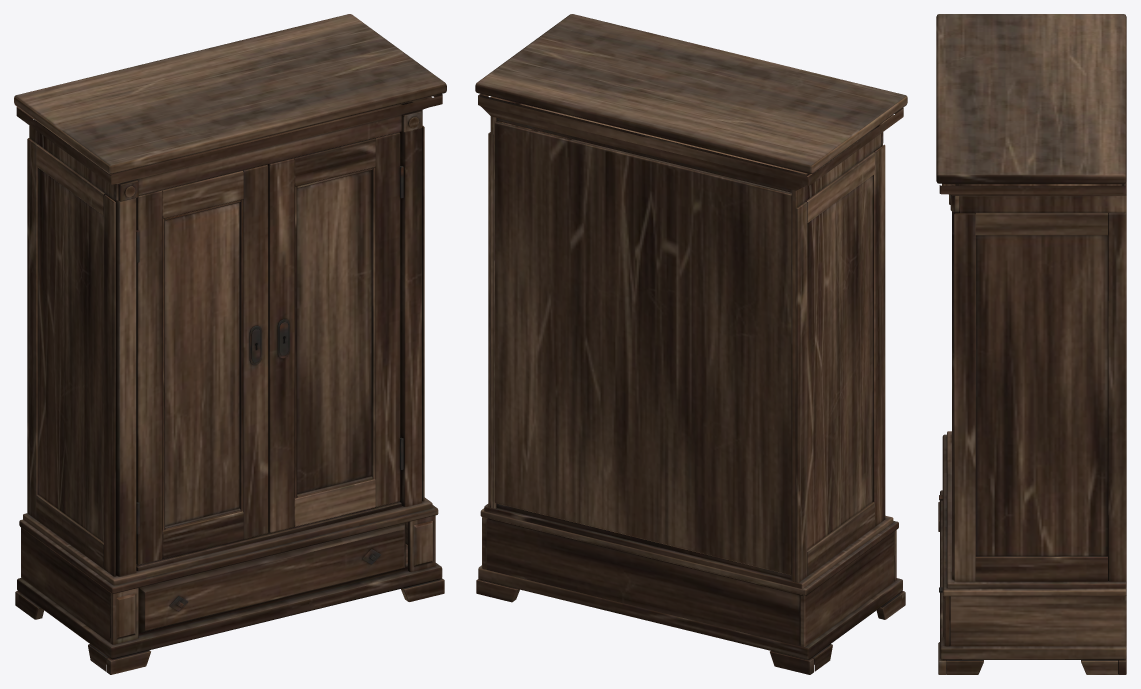
The model's file is wardrobe.glb.
3 views of the same model, side by side, from view 1: azimuth 30°, elevation 25°; view 2: azimuth 150°, elevation 25°; view 3: azimuth 270°, elevation 25° (orthographic).
Parts seen in each view (by area): view 1: Body, Door_R, Door_L, Drawer; view 2: Body; view 3: Body.
Boxes of the visible parts, x1,y1,x2,y2 form: Body: (14,14,446,674); Door_R: (267,132,403,532); Door_L: (136,164,268,565); Drawer: (138,523,405,633); Body: (475,14,907,674); Body: (936,14,1126,674).
Bounding box in the file's own units: 1.33 × 1.92 × 0.662.
1 material, 1 textured.
